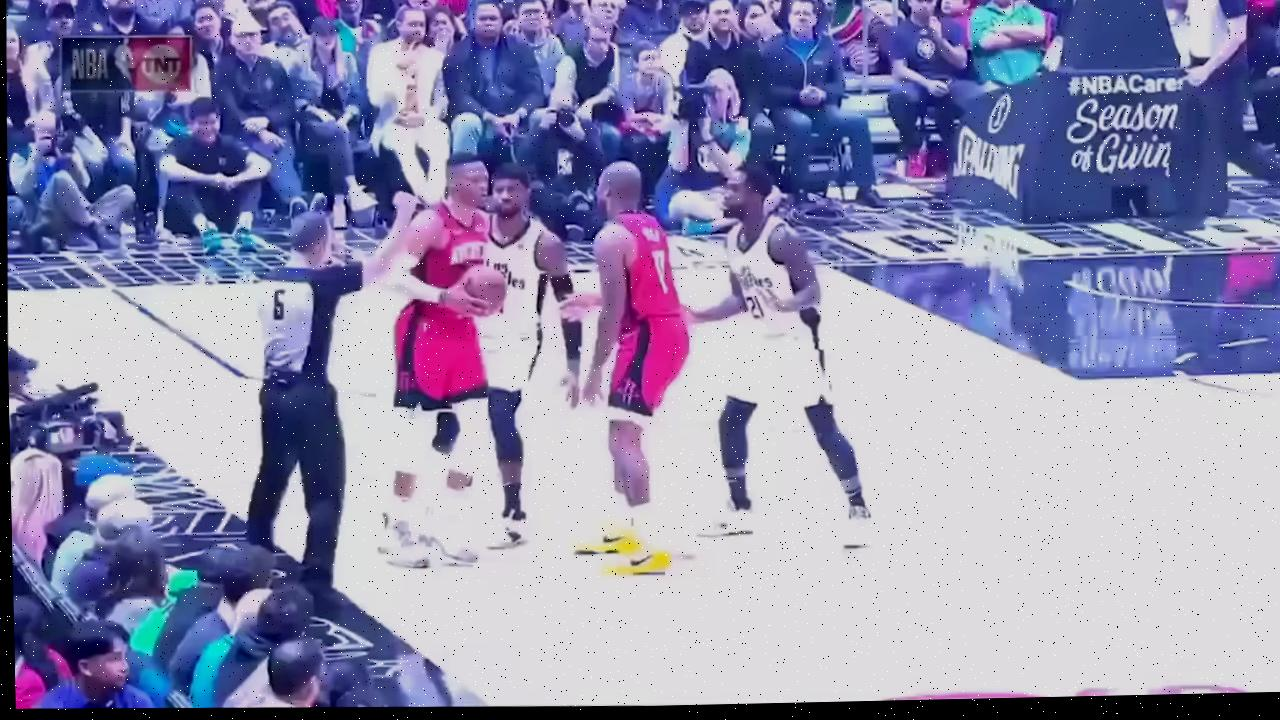no_foul: (544, 164, 911, 569)
